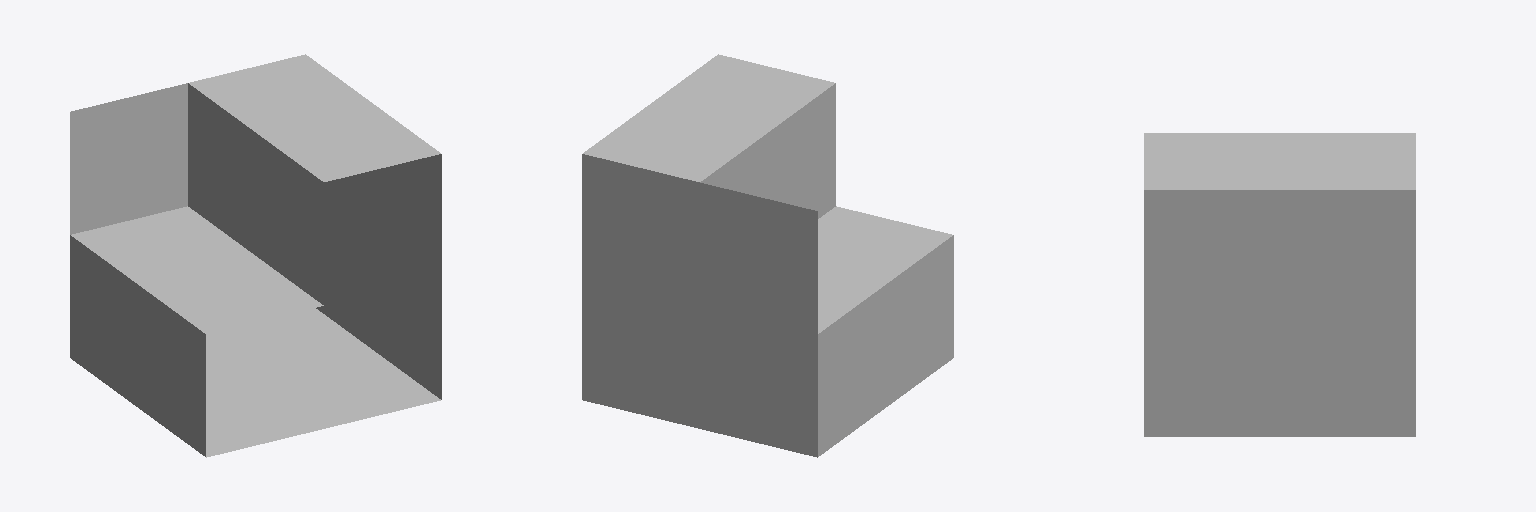
The model's file is inverted_corner.obj.
3 renders of one model, left to right at view 1: azimuth 30°, elevation 25°; view 2: azimuth 150°, elevation 25°; view 3: azimuth 270°, elevation 25°, orthographic.
Parts seen in each view (by area): view 1: Plane.002, Plane.001, Plane.005, Plane.004, Plane.006, Plane.003, Plane; view 2: Plane, Plane.004, Plane.003, Plane.005, Plane.006; view 3: Plane.002, Plane.003.
Boxes of the visible parts, <box> form: Plane.002: <box>316,154,441,399</box>; Plane.001: <box>206,308,440,457</box>; Plane.005: <box>188,83,323,304</box>; Plane.004: <box>70,235,205,456</box>; Plane.006: <box>71,206,323,333</box>; Plane.003: <box>189,54,440,181</box>; Plane: <box>70,83,187,234</box>; Plane: <box>582,154,817,457</box>; Plane.004: <box>818,235,953,456</box>; Plane.003: <box>583,54,834,181</box>; Plane.005: <box>700,83,835,218</box>; Plane.006: <box>818,206,952,333</box>; Plane.002: <box>1144,190,1415,436</box>; Plane.003: <box>1144,133,1415,189</box>.
Bounding box in the file's own units: 2 × 2 × 2.